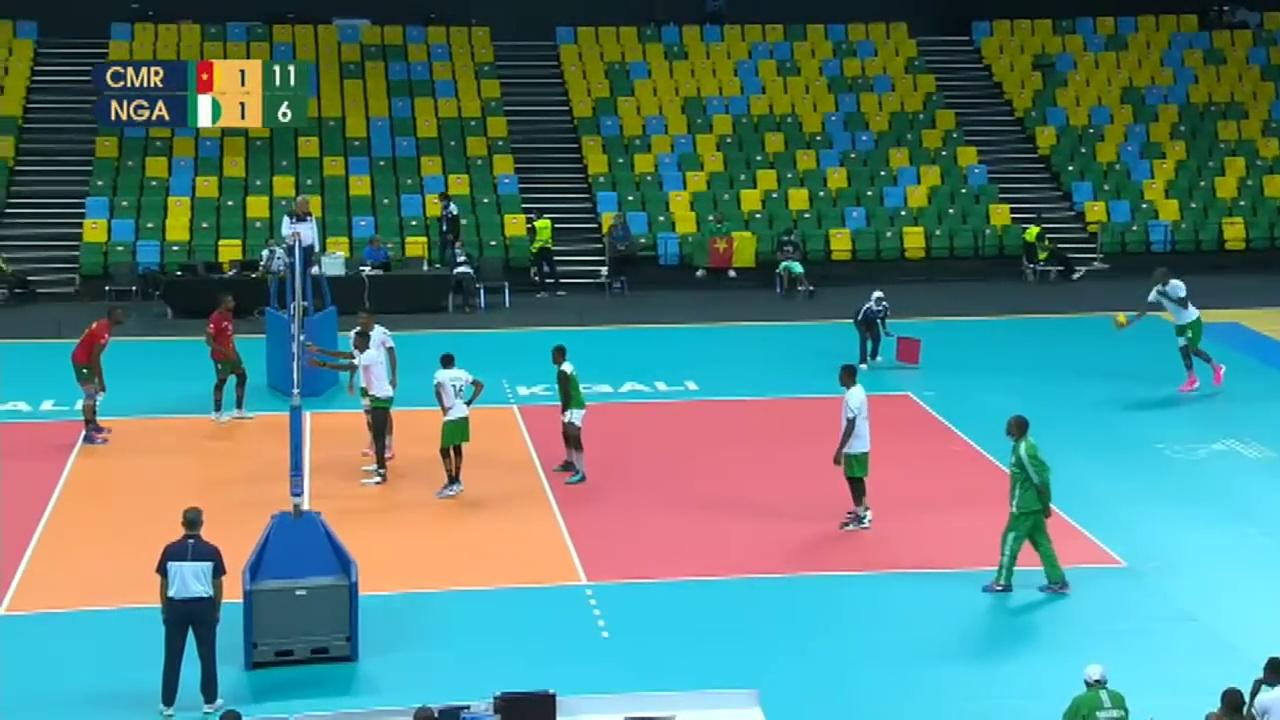player: (1127, 270, 1223, 391), (339, 332, 403, 488), (346, 305, 398, 459), (70, 306, 124, 441), (431, 353, 479, 494), (833, 367, 873, 528), (205, 295, 248, 420), (551, 348, 590, 481)
refree: (151, 507, 227, 717), (278, 189, 328, 307), (857, 290, 893, 371)
